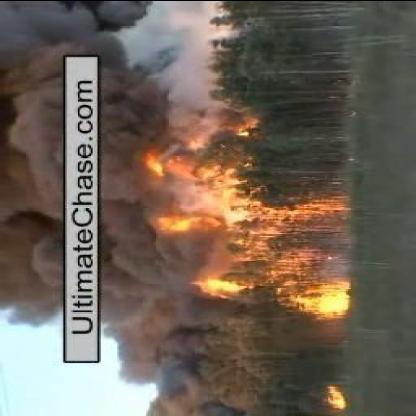-: (98, 48, 200, 389), (5, 80, 60, 316)
foggia-v2-map80-epoch100 - v1 4323: (300, 285, 352, 314)
